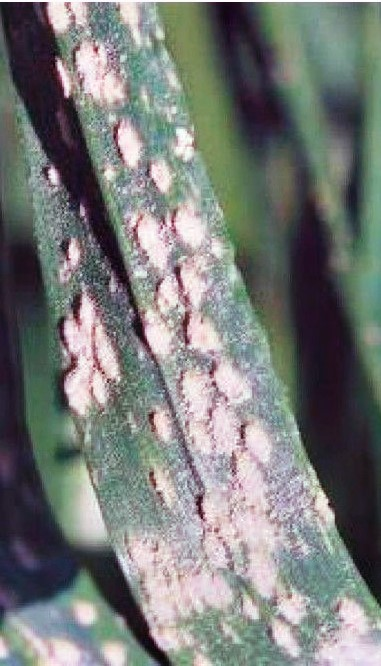Powdery Mildew: (40, 66, 315, 607)
